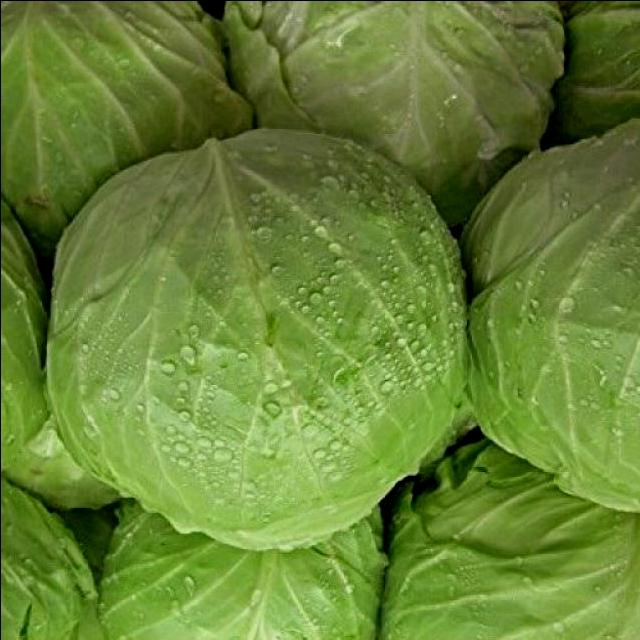cabbage: (43, 126, 467, 552), (466, 115, 640, 515), (219, 1, 562, 200), (1, 1, 257, 241), (385, 441, 640, 640), (106, 489, 385, 640)
